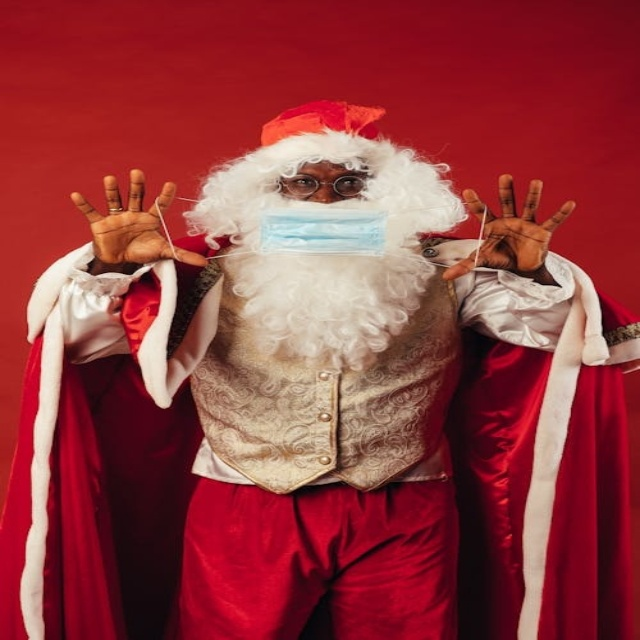Gafas: (277, 173, 371, 199)
Mascara: (260, 207, 389, 257)
Sin_guantes: (441, 174, 578, 282), (68, 168, 199, 271)
